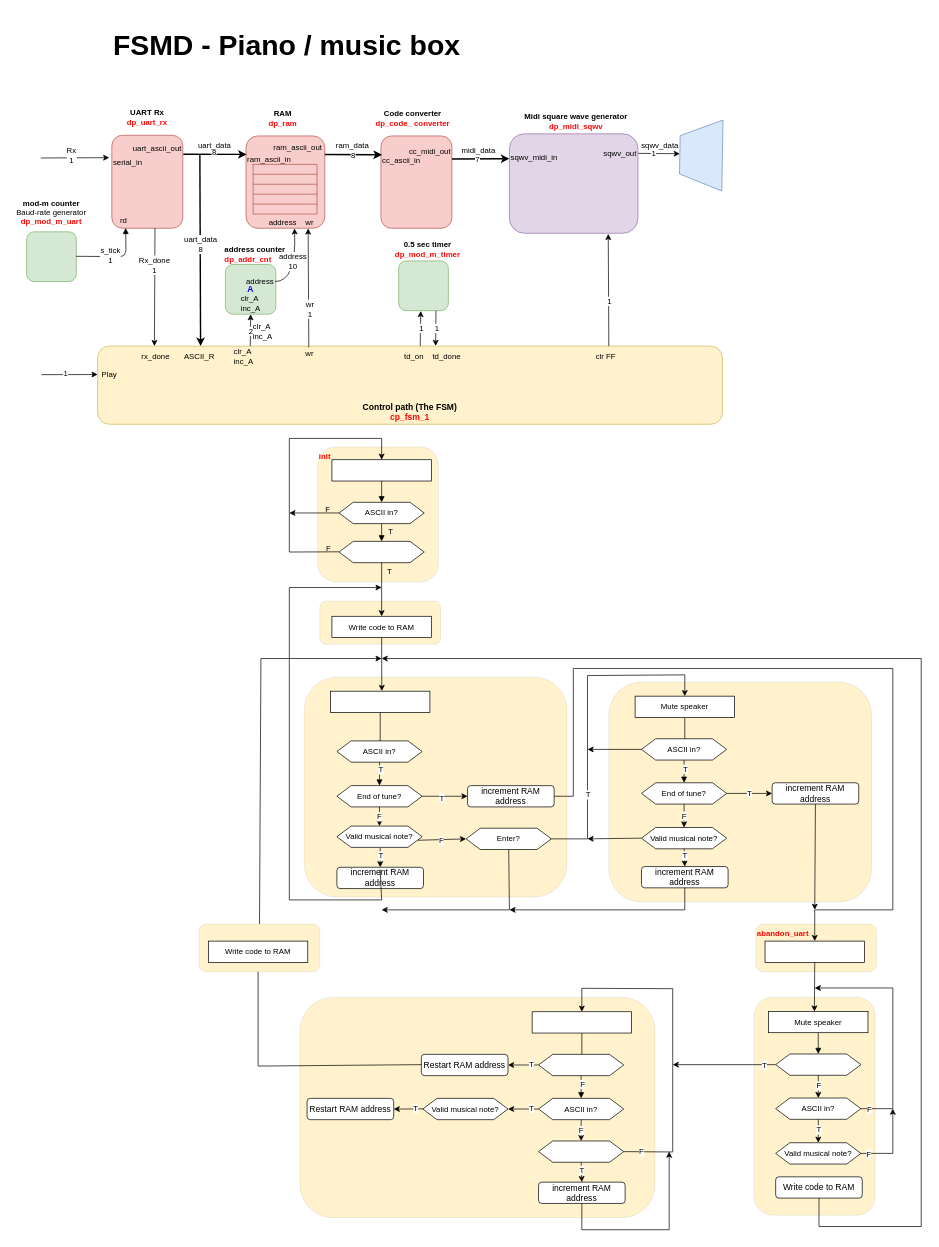
The diagram is 939 pixels wide and 1247 high, and some of its shapes have lost their labels. Each missing label, with the box of its shape:
0.5s passed?: (538, 1140, 624, 1162)
abandon_init: (320, 601, 440, 644)
abandon_ram_playing: (199, 924, 320, 971)
activate 0.5s timer: (531, 1011, 632, 1033)
Mute speaker restart RAM addresses: (331, 459, 431, 481)
P/p pressed? (Play button): (775, 1053, 861, 1075)
play_from_ram: (300, 997, 655, 1217)
play_from_uart1: (304, 677, 567, 897)
play_from_uart2: (608, 682, 871, 902)
ram_data=Enter? (end): (538, 1054, 624, 1076)
Speaker: (678, 119, 723, 191)
Valid code?: (338, 541, 424, 563)
wait_for_play: (754, 997, 875, 1215)
Write code to RAM Restart RAM addr counter: (764, 940, 864, 962)
